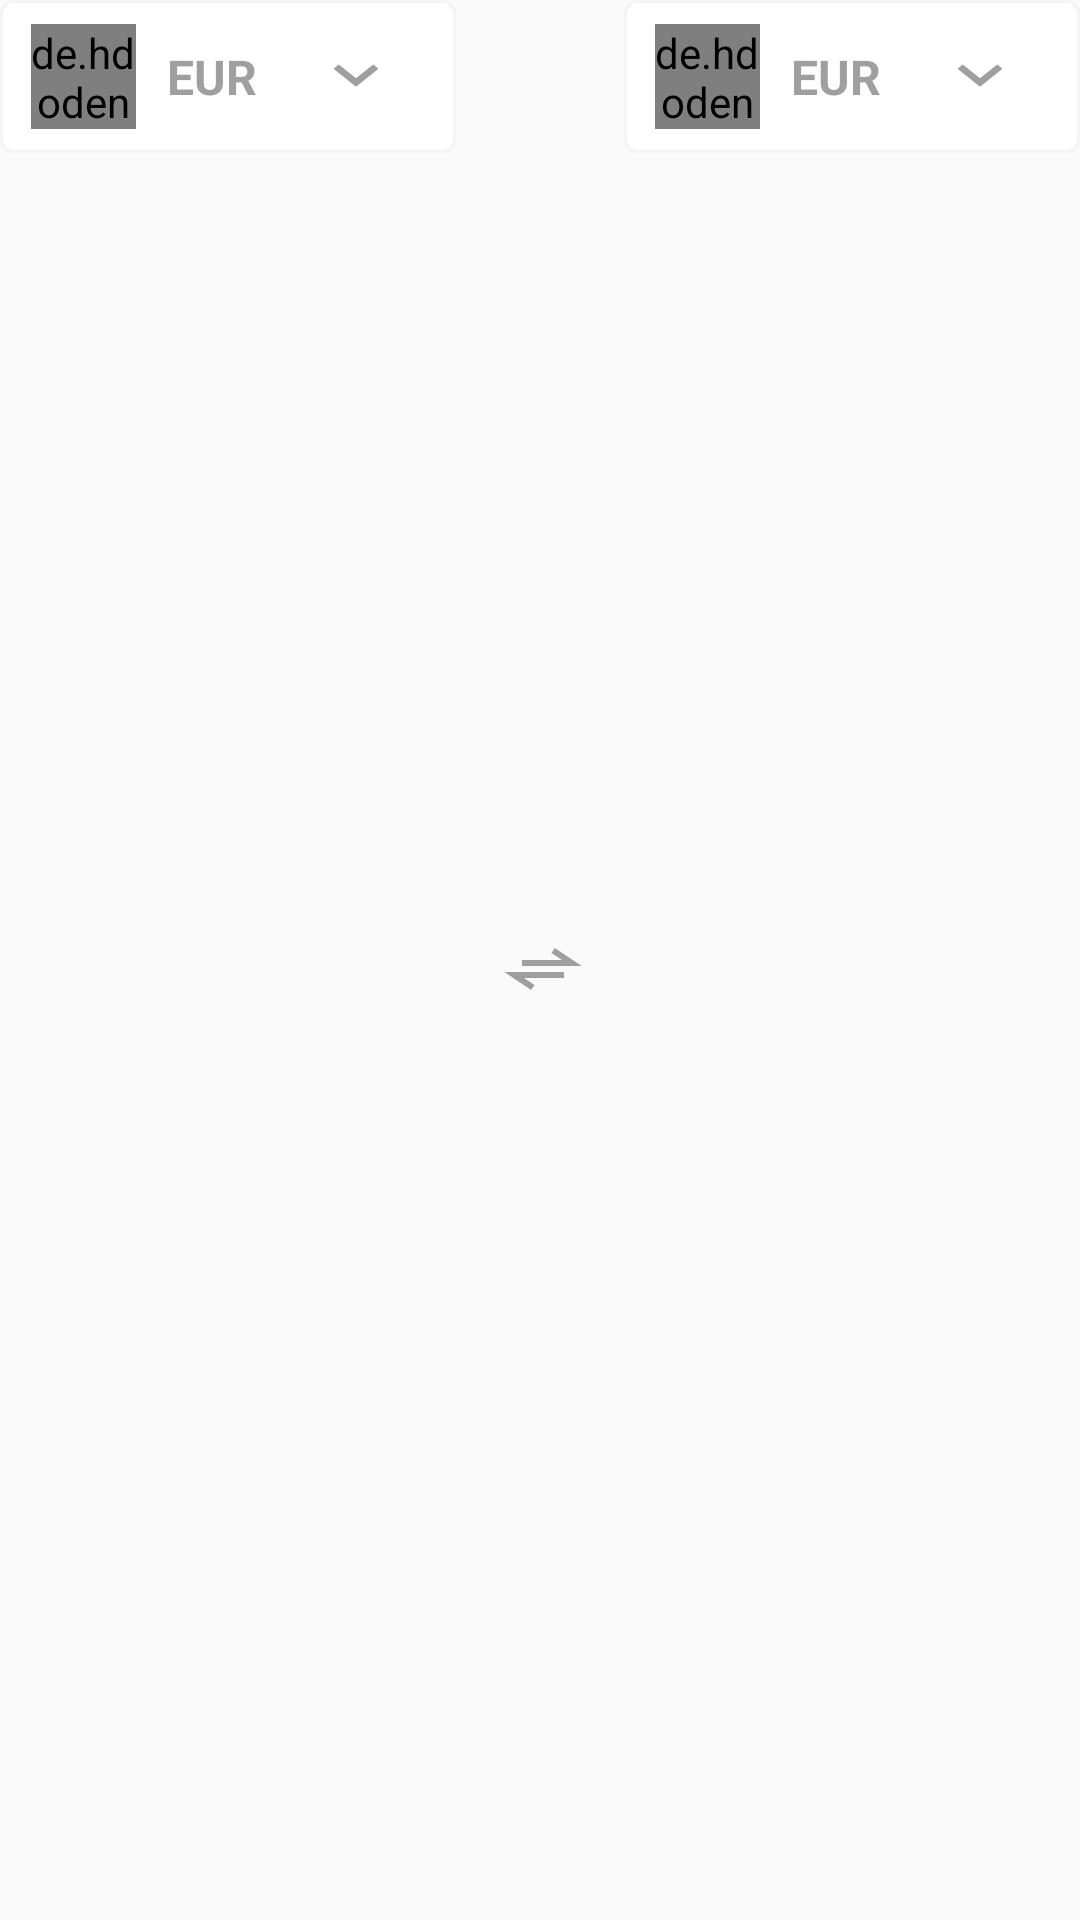

Screen size 1080px x 1920px. Icon name, then its box in pixels as (x1, y1, x2, y2):
arrow down: (334, 64, 378, 87), (958, 64, 1002, 87)
arrows: (505, 948, 581, 990)
